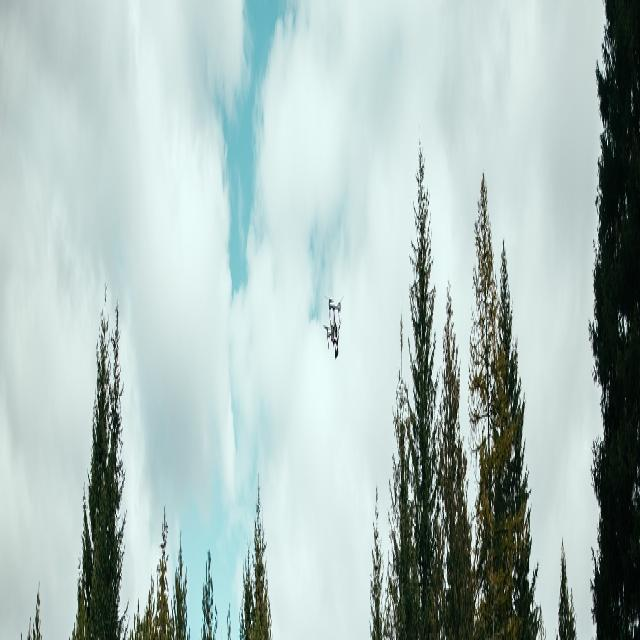drones: (299, 220, 364, 475)
